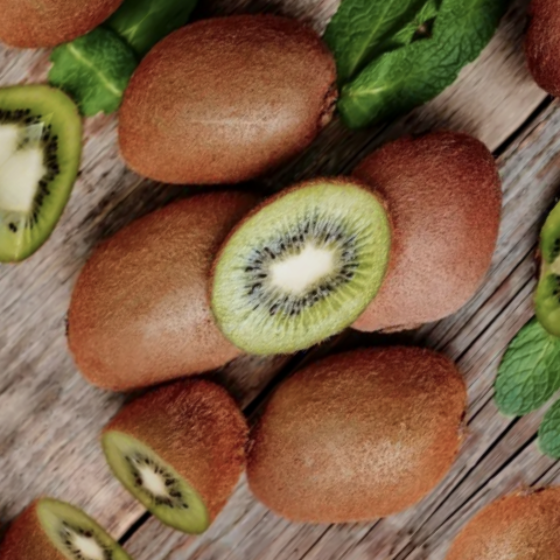kiwi: (11, 130, 347, 469), (243, 82, 560, 410), (195, 263, 521, 560), (59, 0, 384, 256)
